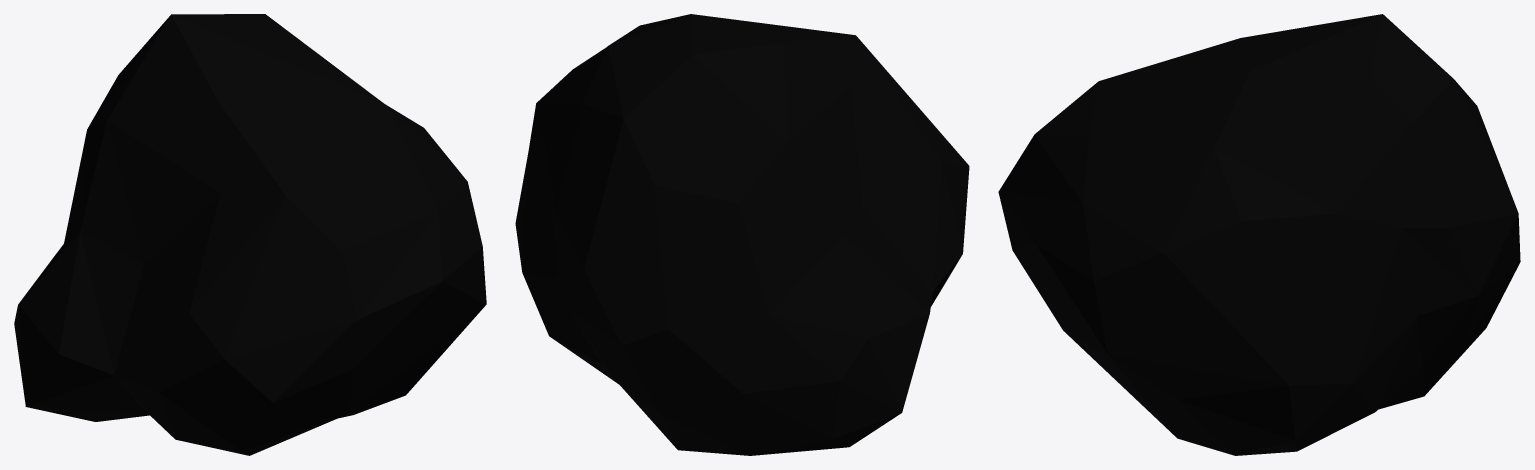
Rendered from Copper Ore 04.fbx.
The picture shows the model from 3 angles, left to right: view 1: azimuth 30°, elevation 25°; view 2: azimuth 150°, elevation 25°; view 3: azimuth 270°, elevation 25°; orthographic projection. The views are drawn at different scales.
Visible parts, largest first — view 1: Copper Ore 04; view 2: Copper Ore 04; view 3: Copper Ore 04.
Boxes of the visible parts, <box> form: Copper Ore 04: <box>14,14,486,455</box>; Copper Ore 04: <box>515,14,969,455</box>; Copper Ore 04: <box>998,14,1520,455</box>.
Bounding box in the file's own units: 41.25 × 37.13 × 45.63.
